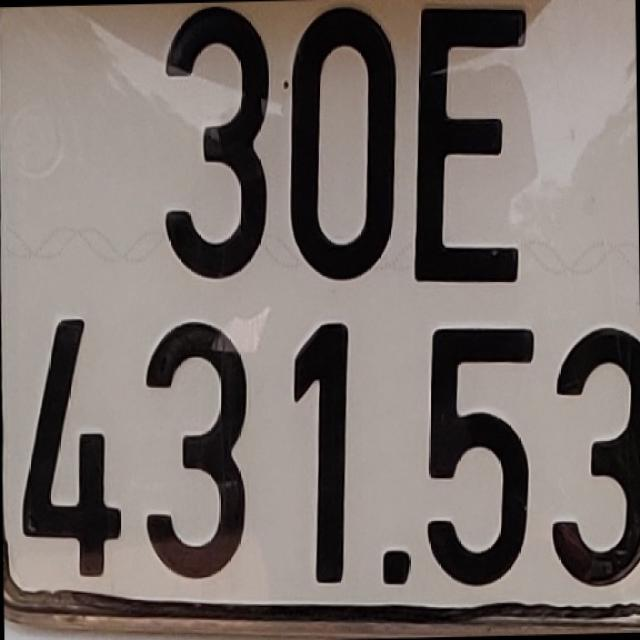0: (283, 0, 401, 283)
1: (279, 312, 368, 590)
3: (150, 0, 276, 286), (133, 309, 261, 586), (545, 314, 639, 594)
4: (13, 305, 129, 586)
5: (414, 312, 540, 591)
E: (419, 0, 537, 294)
